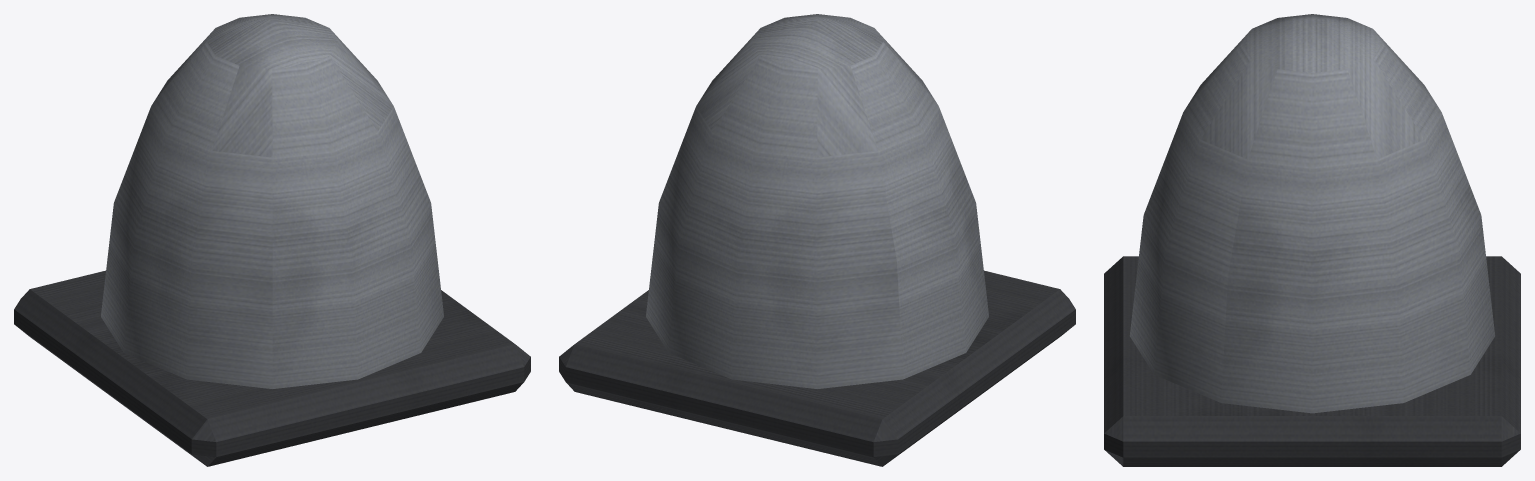
Rendered from R4B_Dome_LOD1.glb.
The picture shows the model from 3 angles, left to right: view 1: azimuth 30°, elevation 25°; view 2: azimuth 150°, elevation 25°; view 3: azimuth 270°, elevation 25°; orthographic projection. The views are drawn at different scales.
Visible parts, largest first — view 1: R4B_Dome_LOD1; view 2: R4B_Dome_LOD1; view 3: R4B_Dome_LOD1.
Part boxes in pixels (x1,y1,x2,y2): R4B_Dome_LOD1: (14,14,530,466); R4B_Dome_LOD1: (559,14,1075,466); R4B_Dome_LOD1: (1104,14,1520,466).
Bounding box in the file's own units: 0.52 × 0.506 × 0.52.
Materials: 2 (2 with a texture image).
